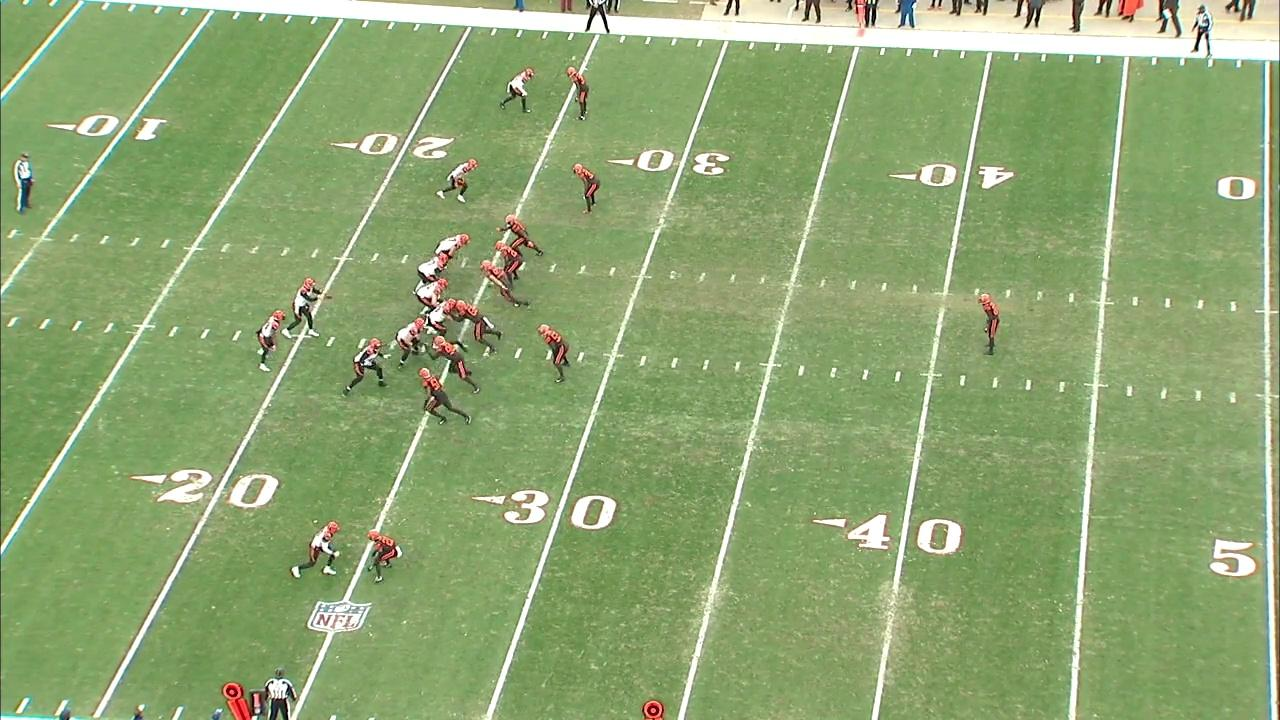player: (418, 368, 475, 434), (424, 335, 482, 395), (289, 518, 343, 582), (340, 337, 391, 400), (282, 276, 328, 342), (454, 298, 503, 359), (478, 258, 533, 311), (493, 213, 546, 260), (537, 323, 573, 387), (364, 529, 404, 584), (254, 309, 284, 375), (434, 159, 477, 205), (498, 67, 537, 115), (572, 162, 604, 218), (977, 294, 1004, 356), (494, 240, 526, 292), (394, 317, 425, 370), (411, 253, 448, 297), (567, 66, 593, 121), (434, 232, 470, 271), (416, 278, 449, 317), (427, 296, 456, 337)
ref: (1186, 4, 1222, 62), (261, 665, 296, 720), (11, 151, 40, 217), (584, 0, 614, 37)
